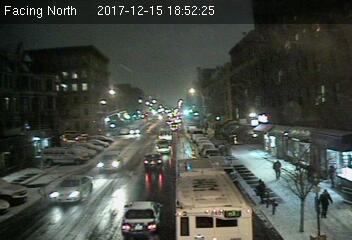bus: (173, 160, 252, 240)
car: (122, 199, 165, 236), (48, 174, 92, 202), (97, 152, 124, 172), (143, 153, 162, 168), (153, 140, 172, 153)
pedestrian: (318, 188, 334, 225), (271, 158, 284, 182)
